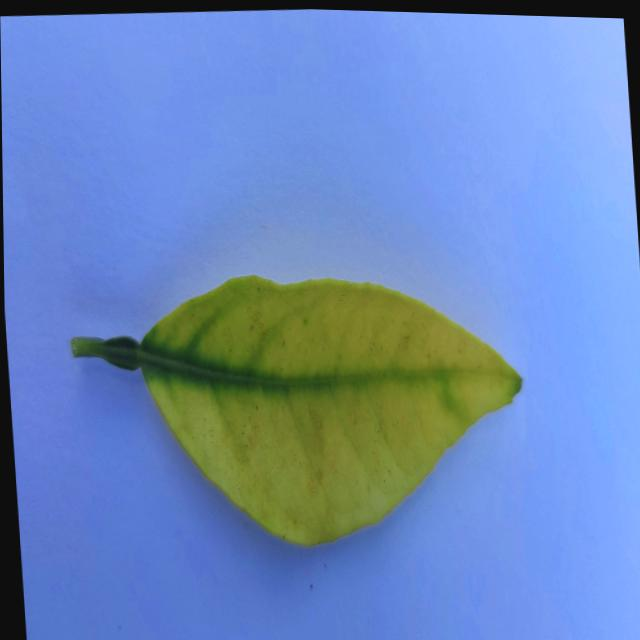greening: (138, 277, 520, 545)
